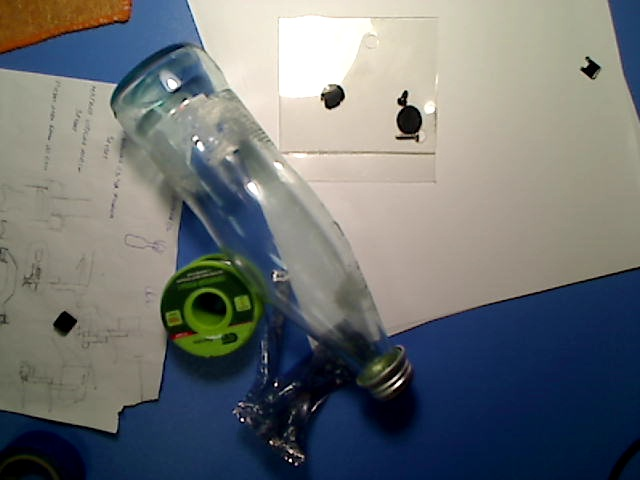bottle: (107, 41, 414, 402)
